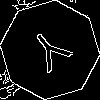Y: (25, 25, 80, 81)
